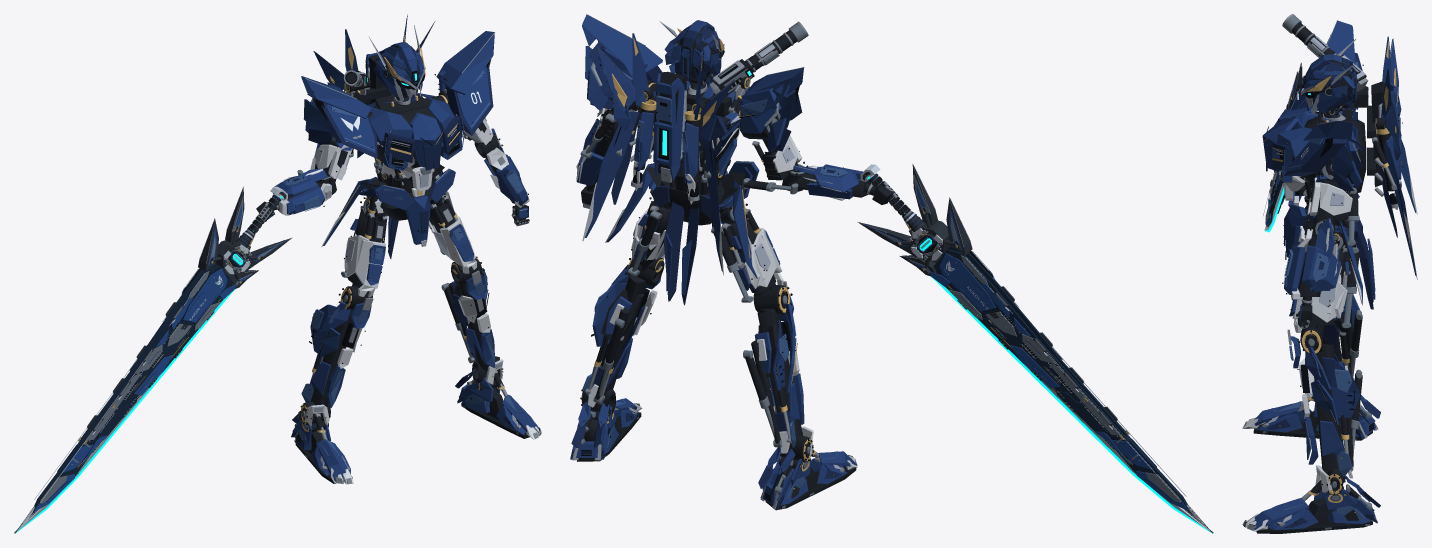
Rendered from VALKYR_RAIKEN_GAME.fbx.
3 views of the same model, side by side, from view 1: azimuth 30°, elevation 25°; view 2: azimuth 150°, elevation 25°; view 3: azimuth 270°, elevation 25° (orthographic). The views are drawn at different scales.
Visible parts, largest first — view 1: LOD0_Thorax_Armor, LOD0_Shoulder_Armor_Floating_Pivot.R_Armor, LOD0_Shoulder_Armor_Floating_Pivot.L_Armor, RAIKEN_Solid_02_Deep_Navy, LOD0_Shin.R_Armor, RAIKEN_Solid_05_Inner_Frame, RAIKEN_Solid_01_Cobalt_Armor, RAIKEN_Solid_03_Gunmetal_Panels, LOD0_Pelvis_Armor, LOD0_Foot.L_Armor, LOD0_Shin.L_Armor, LOD0_Head_Armor (+19 smaller); view 2: RAIKEN_Solid_02_Deep_Navy, LOD0_Shin.R_Mechanics, RAIKEN_Solid_05_Inner_Frame, RAIKEN_Solid_01_Cobalt_Armor, LOD0_Shoulder_Armor_Floating_Pivot.R_Armor, LOD0_Shoulder_Armor_Floating_Pivot.L_Armor, RAIKEN_Solid_03_Gunmetal_Panels, LOD0_Backpack_Outer_Fold_Pivot.L_Armor, LOD0_Shin.L_Mechanics, LOD0_Backpack_Structural_Mount_Armor, LOD0_Shin.R_Armor, LOD0_Foot.R_Armor (+27 smaller); view 3: LOD0_Shin.L_Armor, LOD0_Shoulder_Armor_Floating_Pivot.L_Armor, LOD0_Foot.L_Armor, LOD0_Forearm.L_Armor, LOD0_Shin.L_Mechanics, LOD0_Thorax_Armor, LOD0_Head_Armor, LOD0_Foot.L_Mechanics, LOD0_Foot.R_Armor, LOD0_Backpack_Structural_Mount_Mechanics, LOD0_Thigh.L_Armor, LOD0_Thorax_Mechanics (+28 smaller).
Part boxes in pixels (x1,y1,x2,y2): LOD0_Thorax_Armor: (357,93,464,178); LOD0_Shoulder_Armor_Floating_Pivot.R_Armor: (301,76,377,158); LOD0_Shoulder_Armor_Floating_Pivot.L_Armor: (436,31,495,135); RAIKEN_Solid_02_Deep_Navy: (30,194,280,516); LOD0_Shin.R_Armor: (301,302,371,407); RAIKEN_Solid_05_Inner_Frame: (14,187,292,533); RAIKEN_Solid_01_Cobalt_Armor: (34,204,285,511); RAIKEN_Solid_03_Gunmetal_Panels: (15,195,278,532); LOD0_Pelvis_Armor: (359,168,455,246); LOD0_Foot.L_Armor: (455,359,540,439); LOD0_Shin.L_Armor: (452,268,495,367); LOD0_Head_Armor: (368,25,425,102); RAIKEN_Solid_02_Deep_Navy: (869,173,1193,515); LOD0_Shin.R_Mechanics: (743,281,802,455); RAIKEN_Solid_05_Inner_Frame: (857,164,1213,532); RAIKEN_Solid_01_Cobalt_Armor: (865,183,1188,510); LOD0_Shoulder_Armor_Floating_Pivot.R_Armor: (739,67,804,152); LOD0_Shoulder_Armor_Floating_Pivot.L_Armor: (582,14,662,110); RAIKEN_Solid_03_Gunmetal_Panels: (871,173,1212,532); LOD0_Backpack_Outer_Fold_Pivot.L_Armor: (582,111,698,241); LOD0_Shin.L_Mechanics: (585,257,664,409); LOD0_Backpack_Structural_Mount_Armor: (633,73,686,190); LOD0_Shin.R_Armor: (754,294,804,453); LOD0_Foot.R_Armor: (758,426,857,509); LOD0_Shin.L_Armor: (1289,336,1360,478); LOD0_Shoulder_Armor_Floating_Pivot.L_Armor: (1283,120,1364,190); LOD0_Foot.L_Armor: (1242,465,1380,531); LOD0_Forearm.L_Armor: (1284,217,1341,299); LOD0_Shin.L_Mechanics: (1287,326,1362,483); LOD0_Thorax_Armor: (1262,106,1359,198); LOD0_Head_Armor: (1301,38,1356,114); LOD0_Foot.L_Mechanics: (1242,468,1377,533); LOD0_Foot.R_Armor: (1242,395,1380,439); LOD0_Backpack_Structural_Mount_Mechanics: (1367,81,1402,208); LOD0_Thigh.L_Armor: (1289,262,1349,332); LOD0_Thorax_Mechanics: (1264,106,1366,196).
Size of the model in its own units: 4.92 by 3.5 by 1.3.
Materials: 14 (2 with a texture image).
